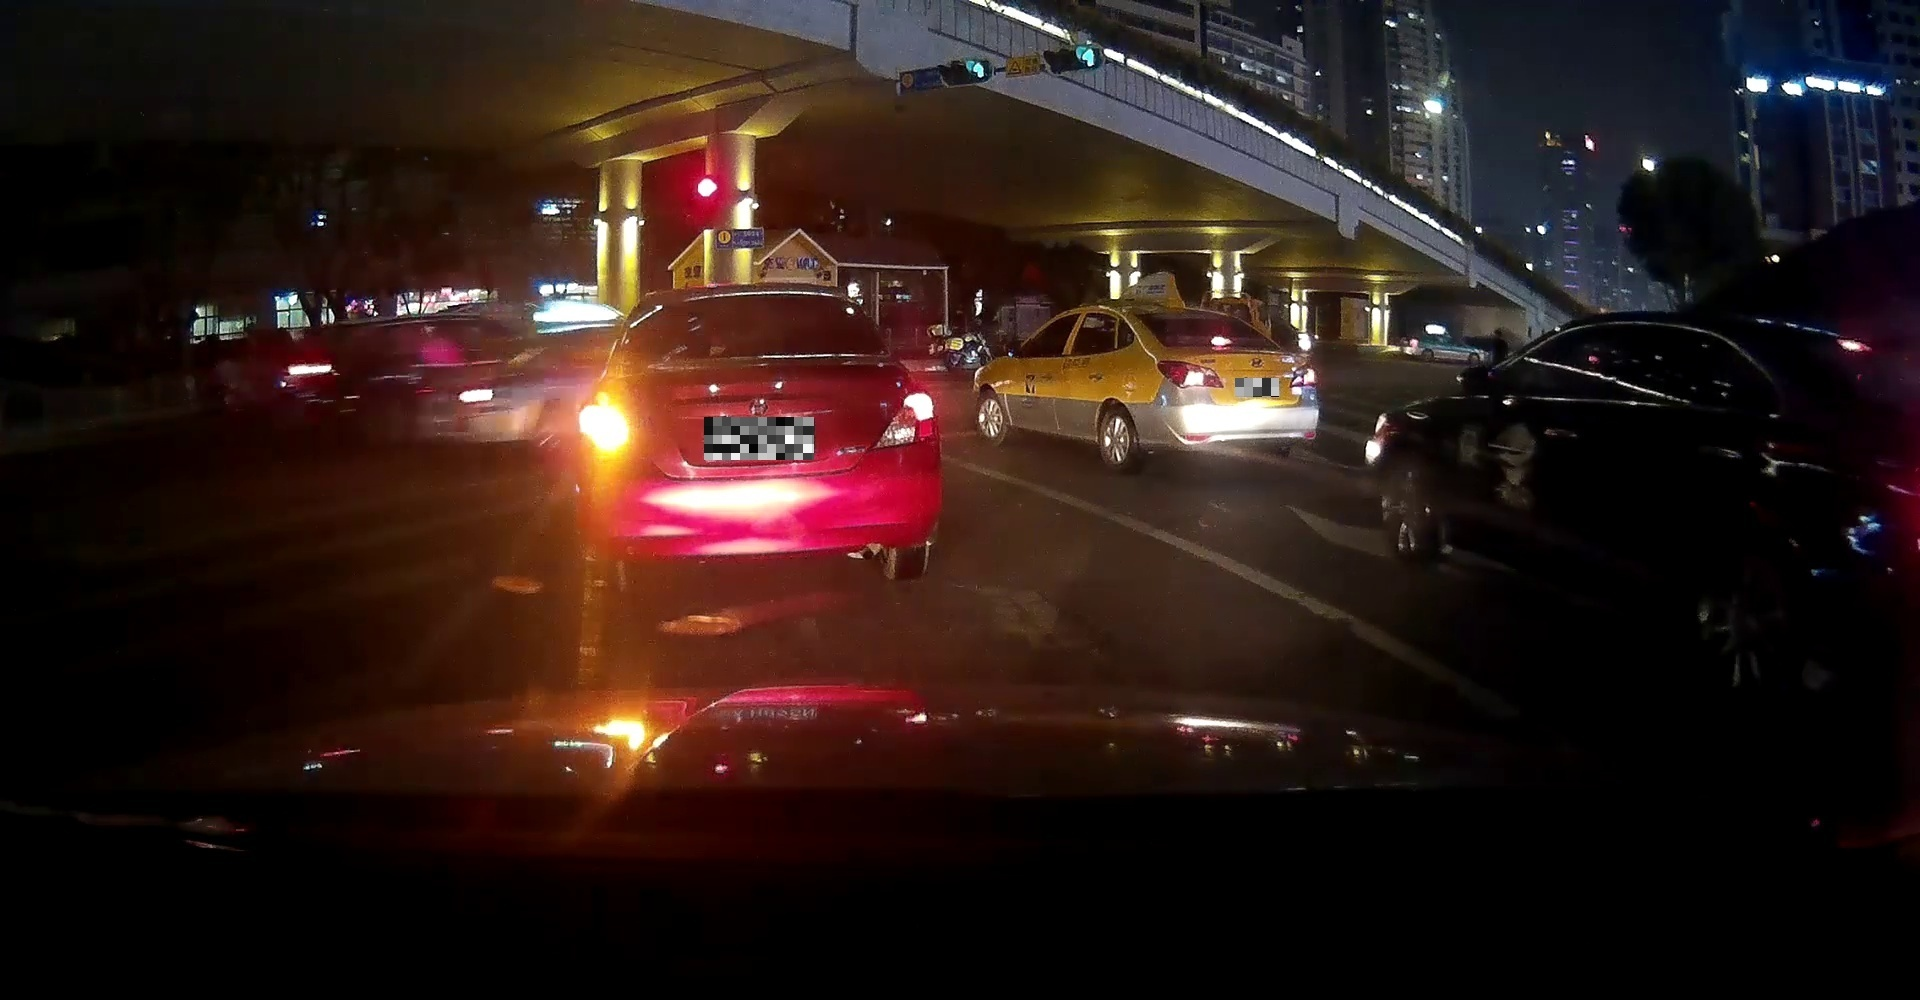L_light: (578, 395, 646, 461), (1157, 359, 1224, 390)
R_light: (869, 386, 938, 452), (1288, 360, 1319, 388)
T_light: (738, 296, 775, 303), (1211, 338, 1230, 344)
night-brake: (1133, 303, 1321, 472)
night-left: (574, 288, 949, 588)
plate_1: (703, 418, 814, 459)
plate_2: (1236, 378, 1279, 397)
